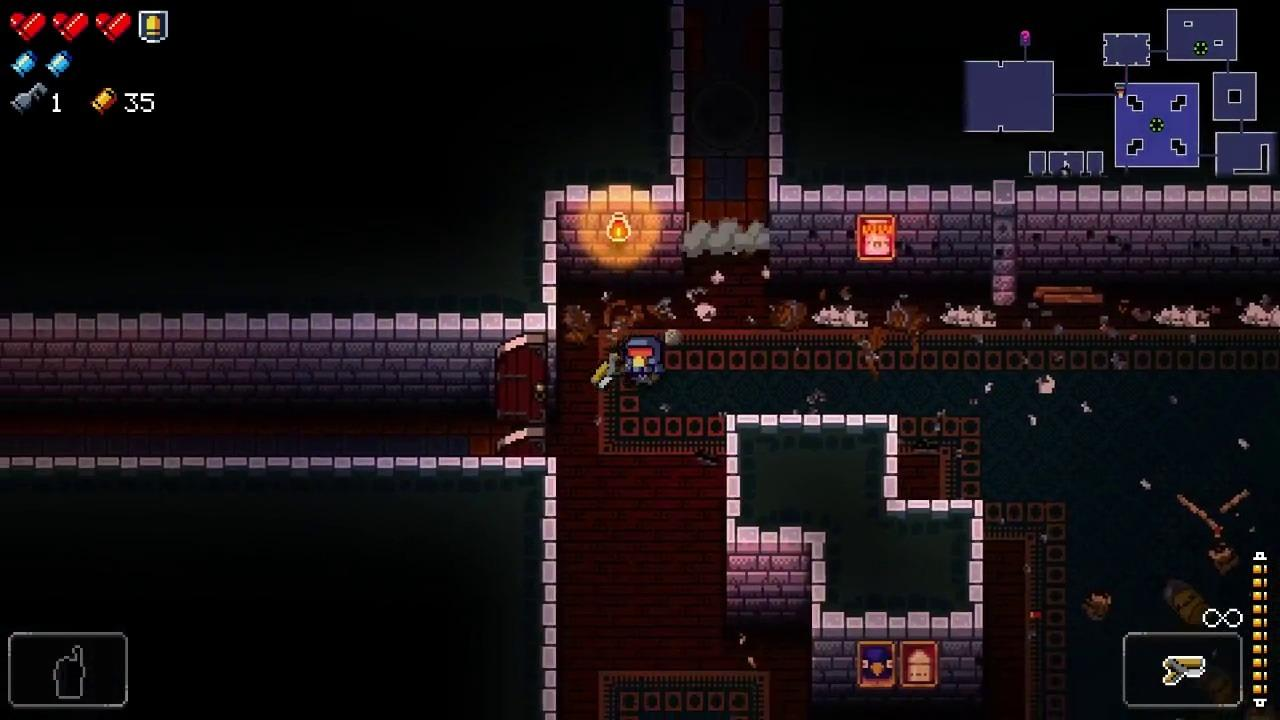player: (621, 335, 663, 385)
pressure_plate: (682, 70, 769, 159)
unlocked_door: (495, 332, 546, 456)
